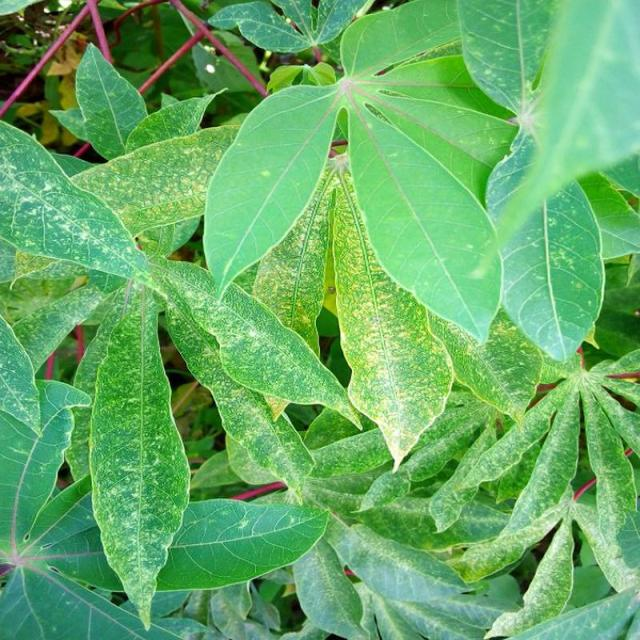cassava leaf: (2, 1, 640, 637), (88, 283, 192, 630)
